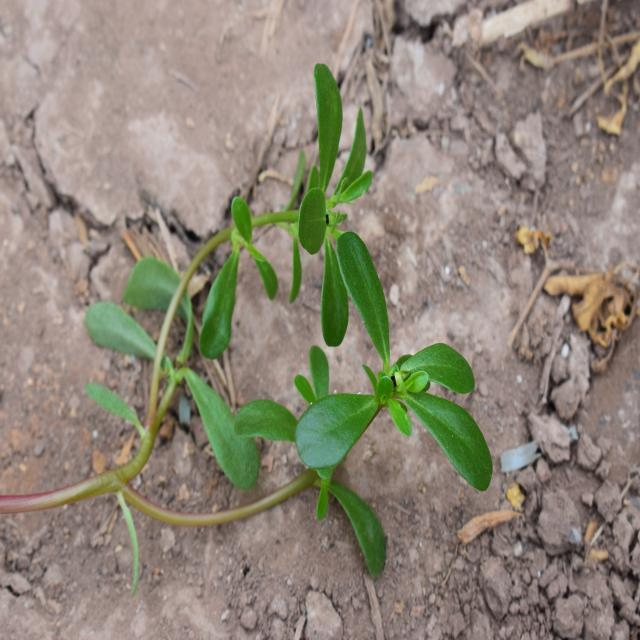purslane: (119, 63, 518, 524)
